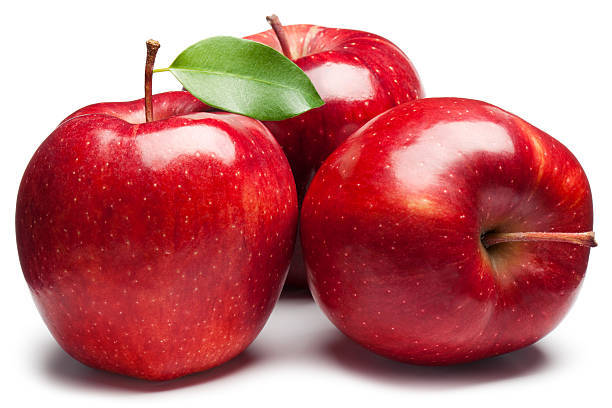apple: (16, 91, 298, 381), (301, 97, 594, 365)
